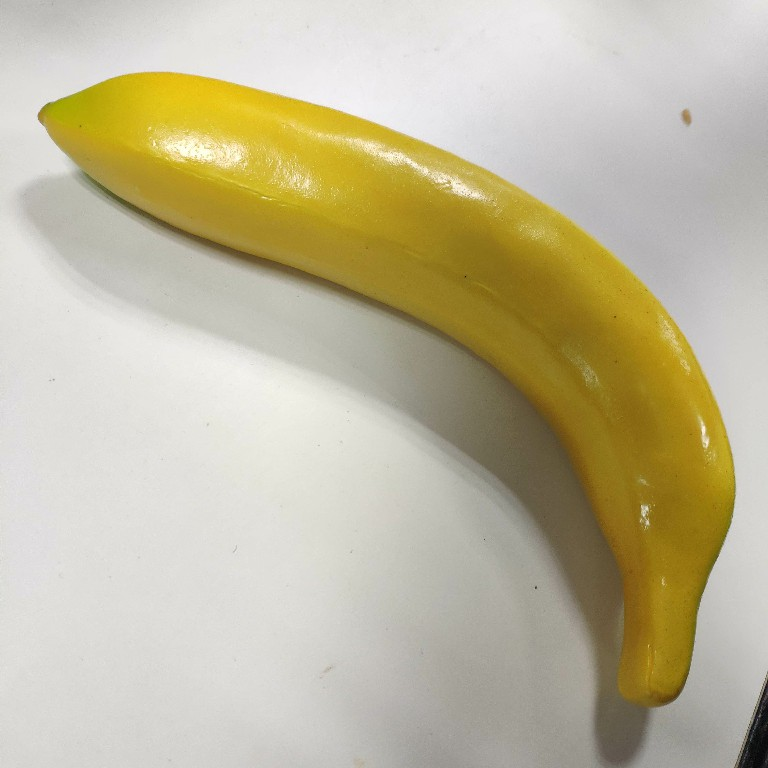fruit_banana: (32, 65, 743, 721)
